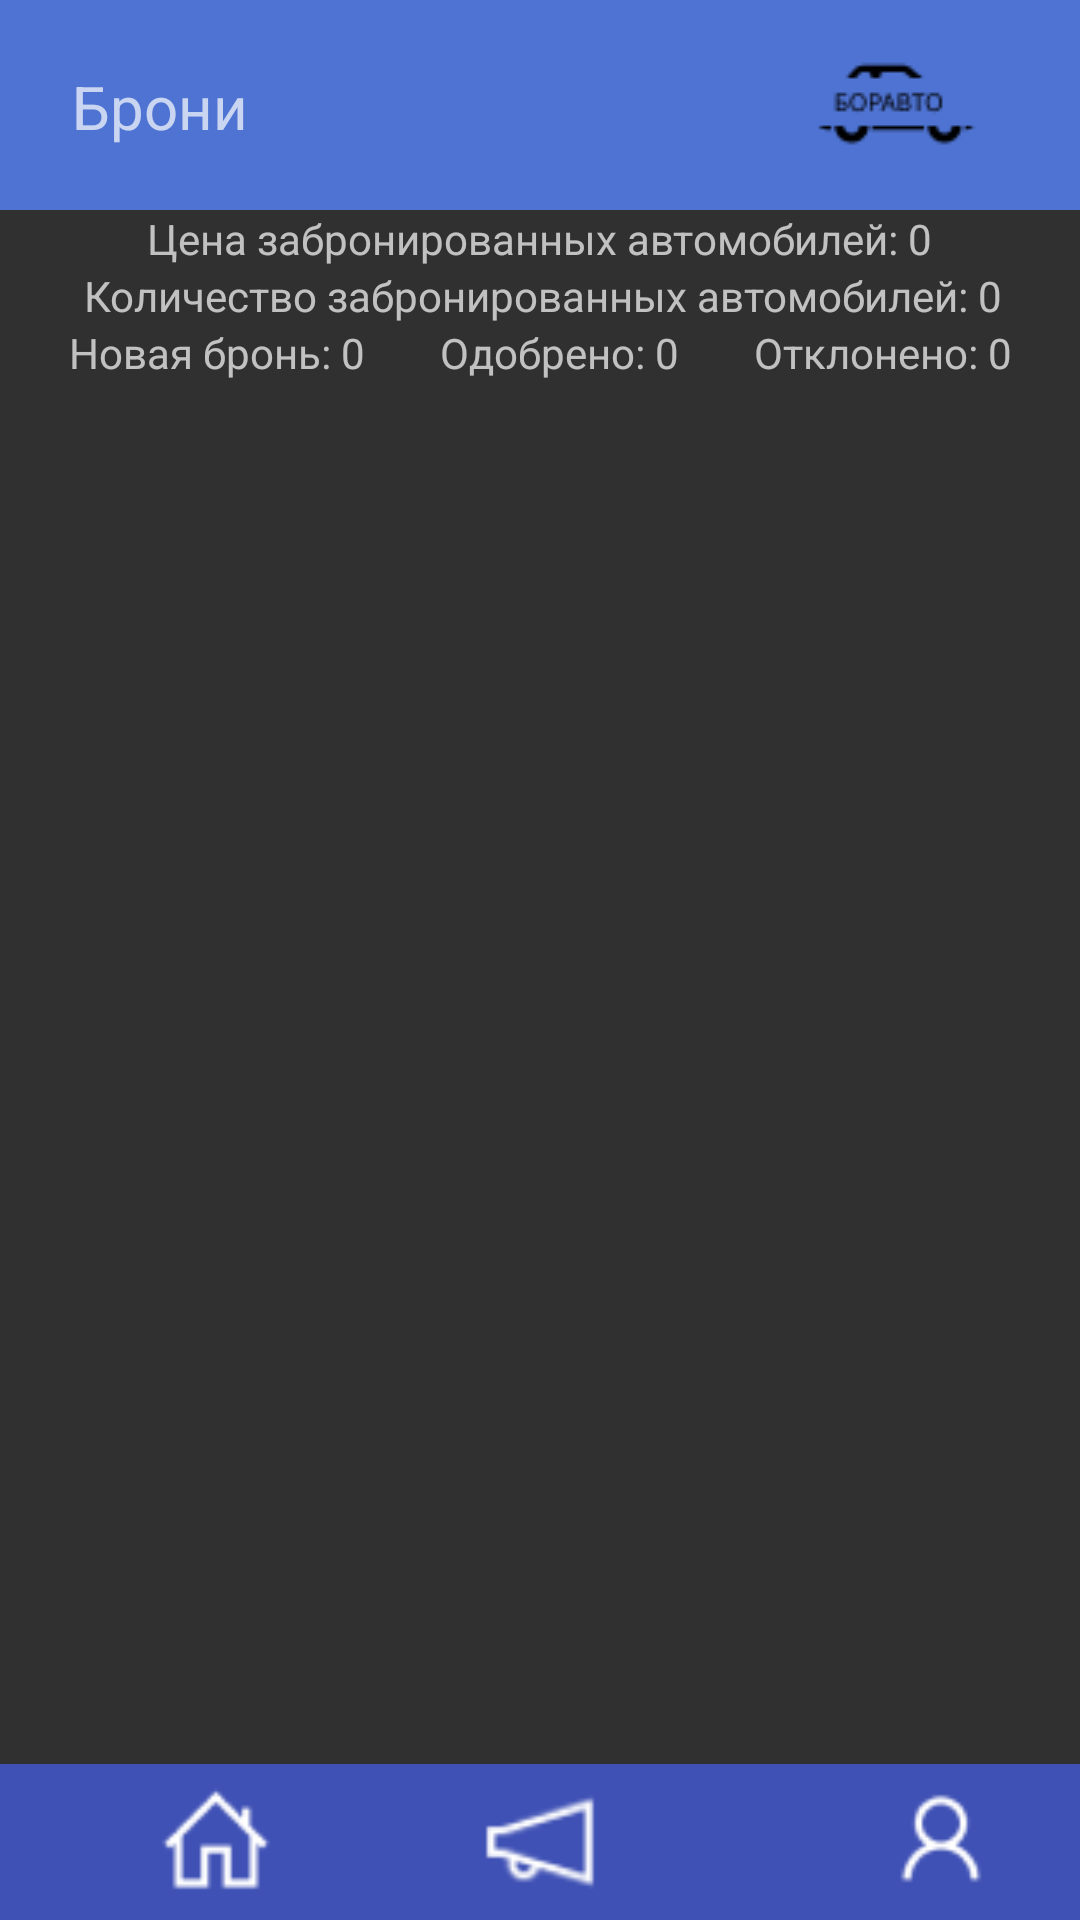

Screen size 1080*1920. Icon name, then its center in pixels as (x=x, y=y):
contacts: (x=941, y=1838)
home: (x=216, y=1840)
news: (x=540, y=1842)
